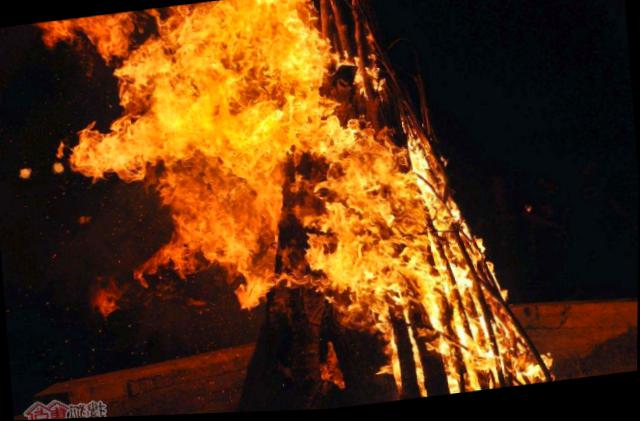fire: (57, 0, 565, 418)
